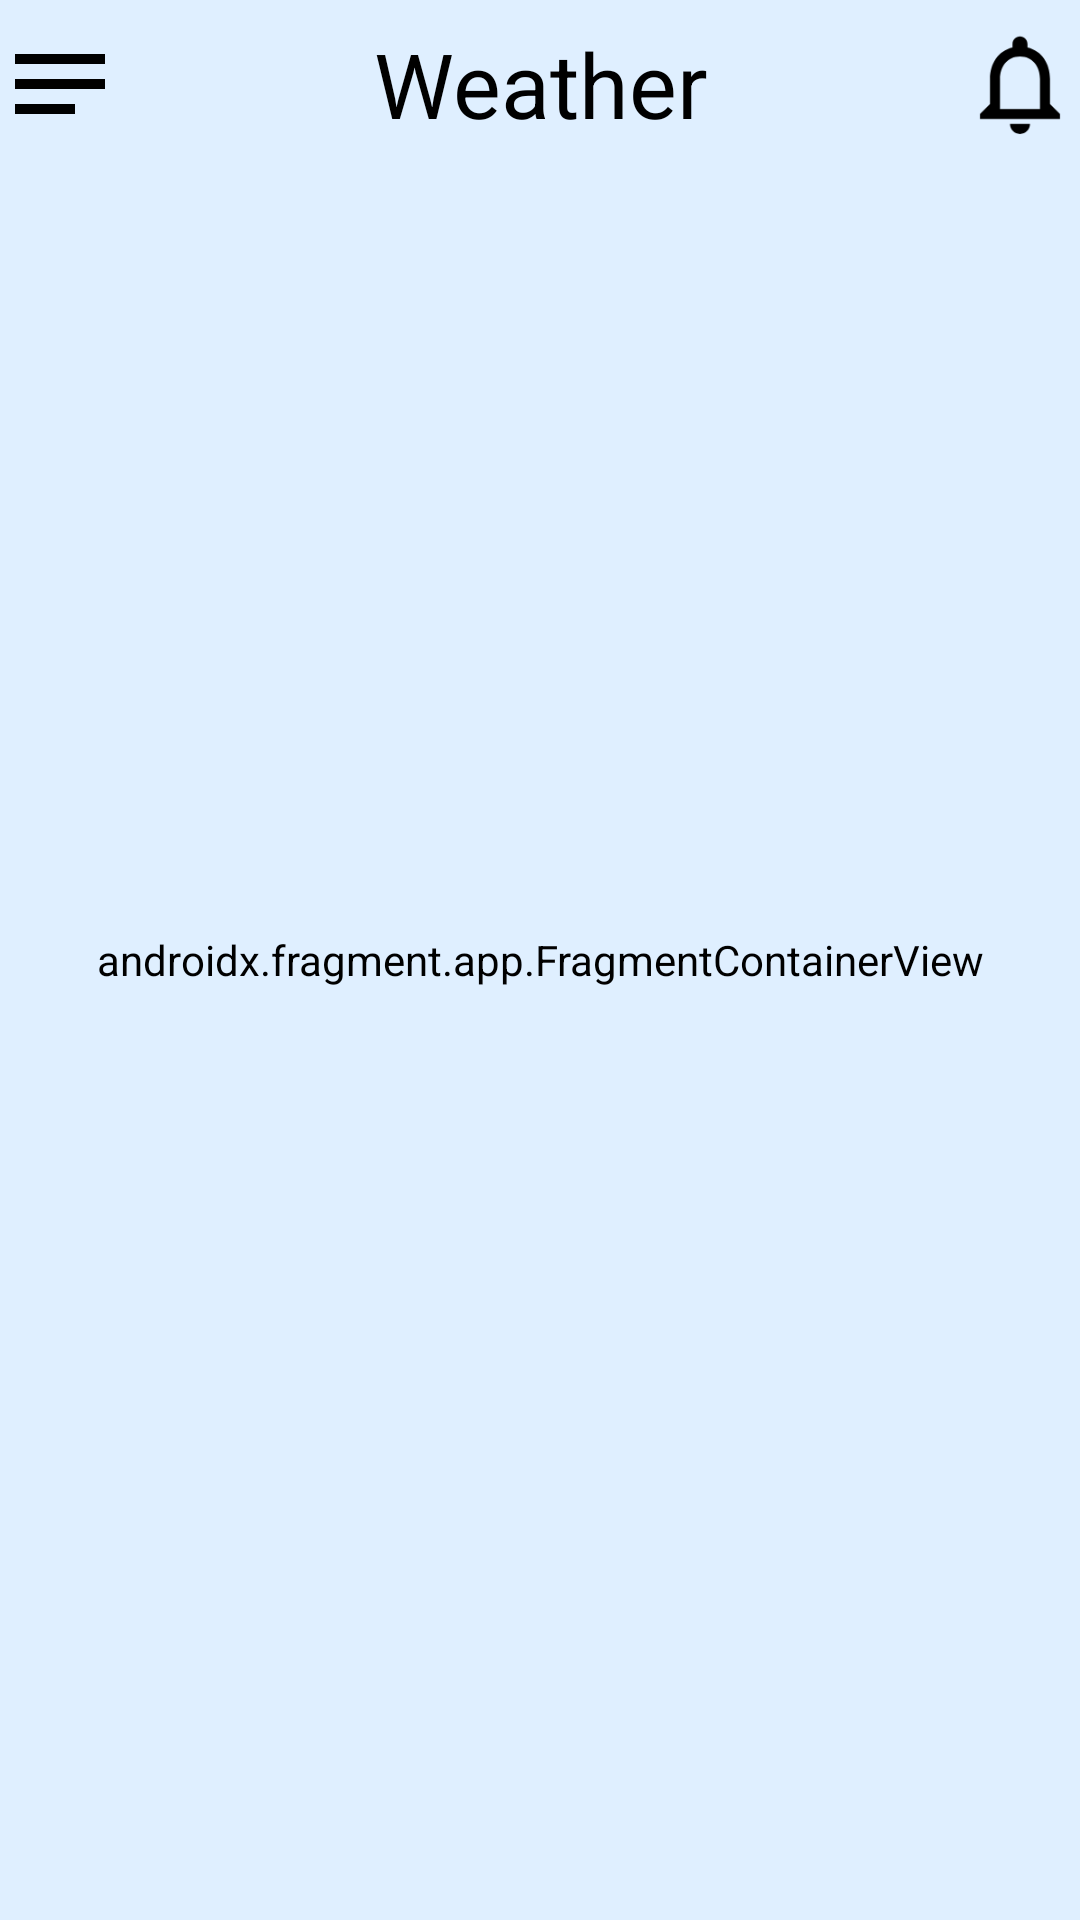

Icons on this 1080*1920 Android screen, each with its box as [x1=x1, y1=y1, x2=x2, y2=y2]:
navigation menu: [x1=15, y1=54, x2=105, y2=114]
notification: [x1=980, y1=36, x2=1060, y2=134]
